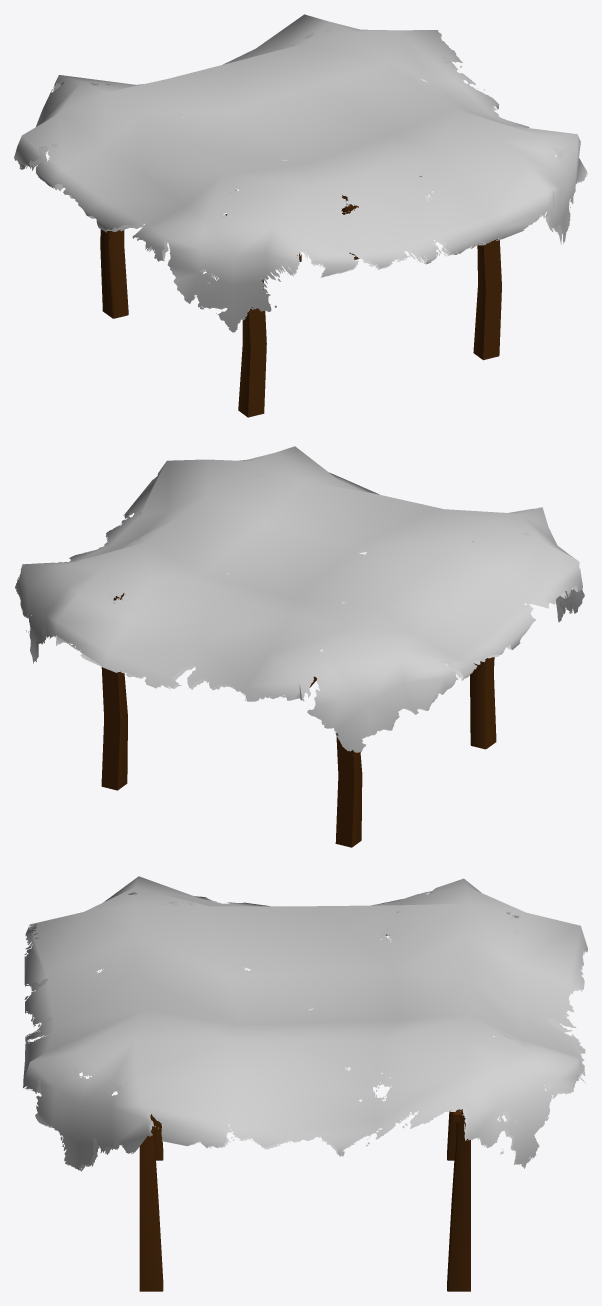
File: Tent_1.FBX
3 views of the same model, one above another, from view 1: azimuth 30°, elevation 25°; view 2: azimuth 150°, elevation 25°; view 3: azimuth 270°, elevation 25° (orthographic). The views are drawn at different scales.
Visible parts, largest first — view 1: Object07; view 2: Object07; view 3: Object07.
Boxes of the visible parts, <box> form: Object07: <box>14,14,587,417</box>; Object07: <box>15,446,584,847</box>; Object07: <box>23,876,587,1291</box>.
Size of the model in its own units: 658 by 317 by 658.
